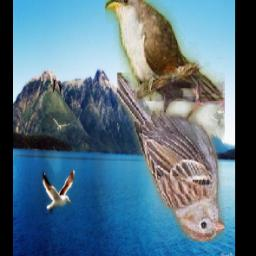Cuckoo: (105, 0, 223, 102)
Sparrow: (117, 73, 225, 242)
